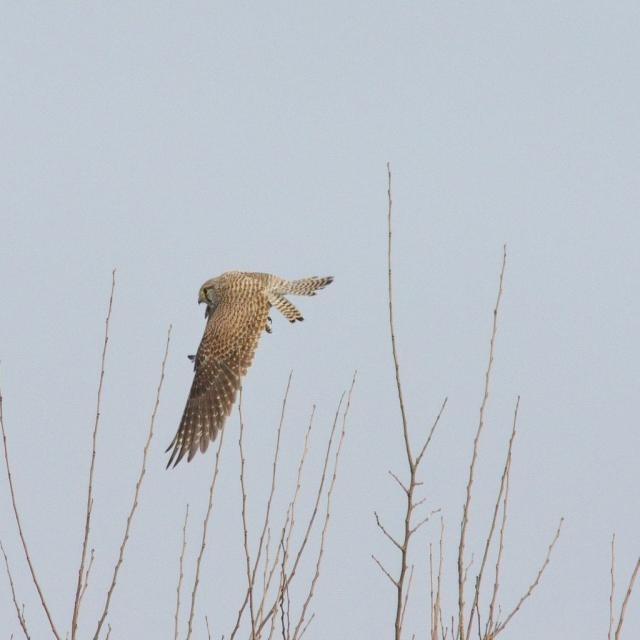bird: (174, 268, 334, 491)
